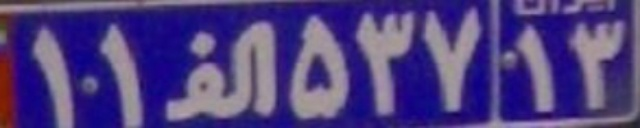1: (97, 22, 153, 127), (26, 23, 82, 127), (511, 19, 558, 112)
3: (355, 11, 416, 115), (569, 18, 627, 111)
5: (286, 14, 350, 118)
7: (421, 5, 481, 112)
alef: (163, 19, 280, 121)
